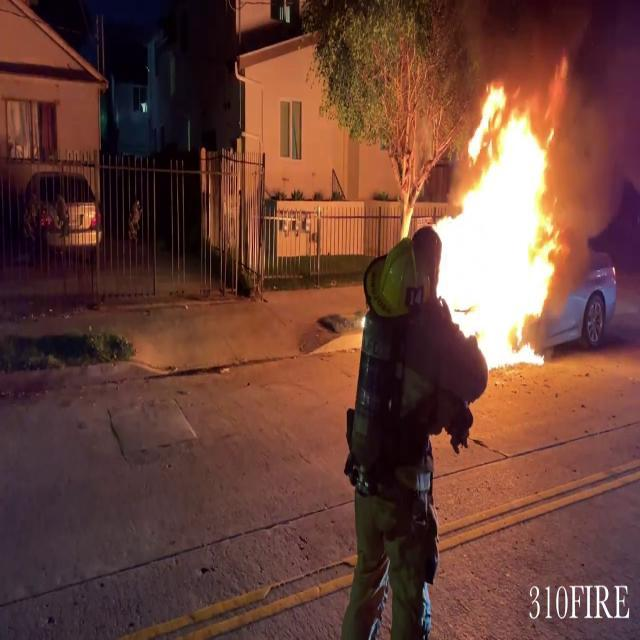Fire: (432, 78, 572, 366)
